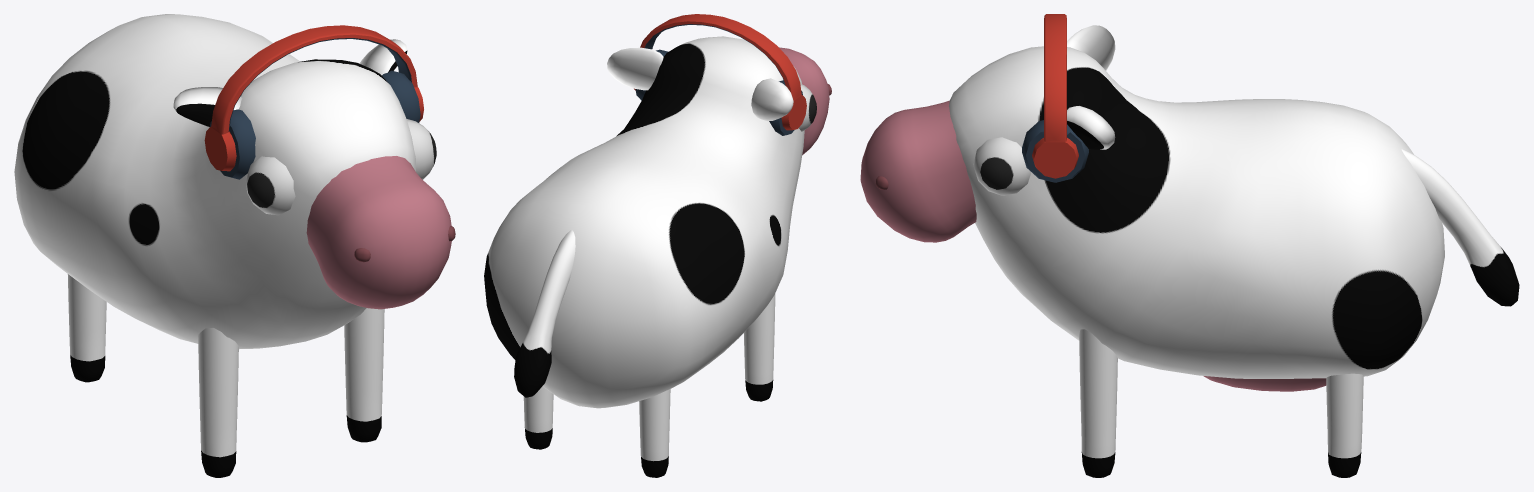
The model's file is Cow.fbx.
3 views of the same model, side by side, from view 1: azimuth 30°, elevation 25°; view 2: azimuth 150°, elevation 25°; view 3: azimuth 270°, elevation 25° (orthographic). The views are drawn at different scales.
Parts seen in each view (by area): view 1: ConBo; view 2: ConBo; view 3: ConBo.
Boxes of the visible parts, bbox=[...] form: ConBo: bbox=[14, 14, 455, 477]; ConBo: bbox=[484, 14, 831, 477]; ConBo: bbox=[860, 14, 1519, 477].
Bounding box in the file's own units: 238 × 359 × 516.
